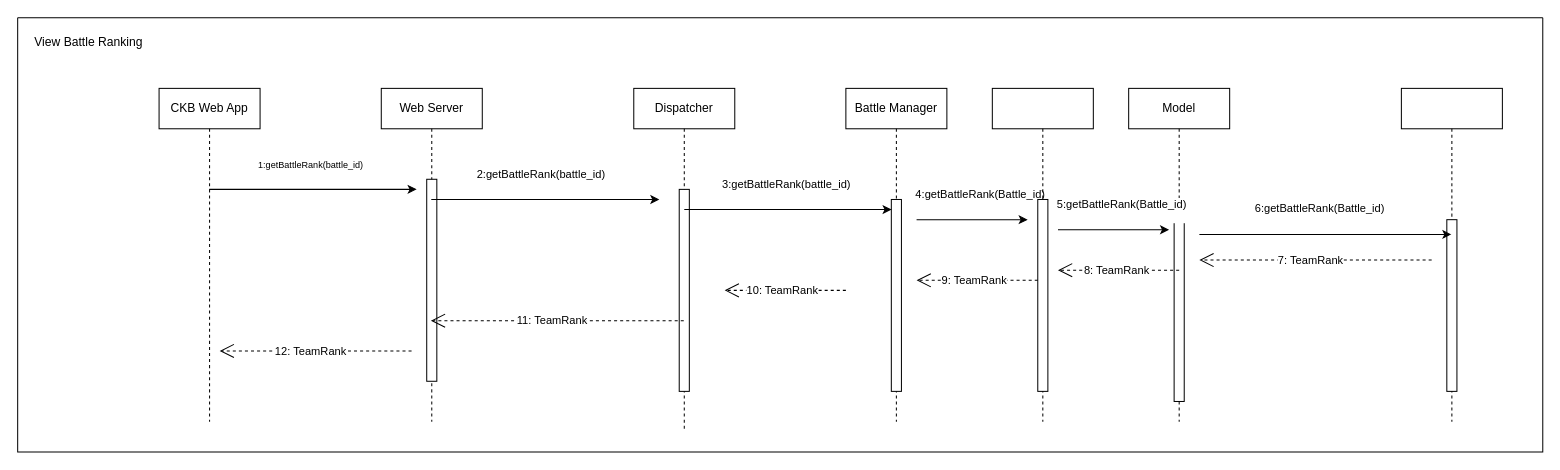
The diagram is 1560 pixels wide and 470 high, and some of its shapes have lost their labels. The shapes that lost their labels are listed below. From the top down, each one's box as (x1, y1, x2, y2) in pixels, then its label:
(991, 87, 1093, 422): Ranking Manager
(1400, 87, 1502, 422): DBMS
